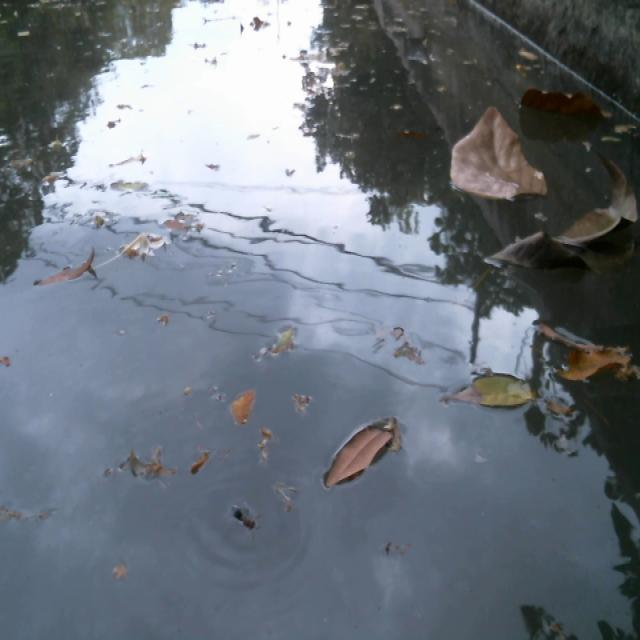Big-leaf: (488, 159, 639, 284), (448, 111, 554, 221), (533, 311, 640, 403), (512, 80, 617, 139)
Small-leaf: (316, 412, 413, 493), (442, 359, 550, 421), (91, 447, 185, 493), (267, 321, 310, 388), (229, 389, 272, 442), (612, 111, 640, 153), (512, 38, 545, 72)
